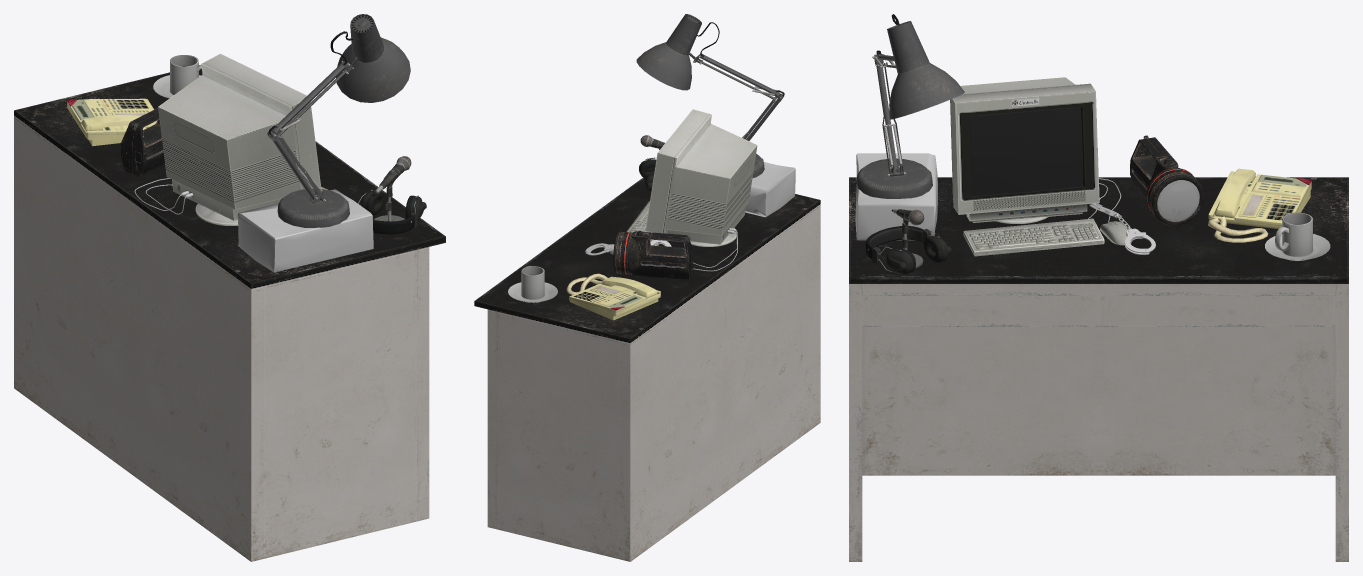
Rendered from Room1.fbx_桌子.fbx.
The picture shows the model from 3 angles, left to right: view 1: azimuth 30°, elevation 25°; view 2: azimuth 150°, elevation 25°; view 3: azimuth 270°, elevation 25°; orthographic projection. The views are drawn at different scales.
Visible parts, largest first — view 1: sm30_272_drugshelf01b_00ms.002, sm74_052_labopc01c_00ms.001, sm35_032_desklamp01a_00ms.002, sm36_098_cardboard08a_00ms.004, sm31_033_ninetiestelephone01a_00ms.004, sm31_045_flashlight01a_00ms, sm31_035_headphone01a_00ms, sm24_015_cup01a_00ms, sm31_008_microphonestand01a_00ms; view 2: sm30_272_drugshelf01b_00ms.002, sm74_052_labopc01c_00ms.001, sm35_032_desklamp01a_00ms.002, sm31_045_flashlight01a_00ms, sm31_033_ninetiestelephone01a_00ms.004, sm36_098_cardboard08a_00ms.004, sm24_015_cup01a_00ms; view 3: sm30_272_drugshelf01b_00ms.002, sm74_052_labopc01c_00ms.001, LODGroup_1_MainMesh_1_SubMesh_3.008, sm35_032_desklamp01a_00ms.002, LODGroup_1_MainMesh_2_SubMesh_1.029, sm31_033_ninetiestelephone01a_00ms.004, sm36_098_cardboard08a_00ms.004, sm31_045_flashlight01a_00ms, sm31_035_headphone01a_00ms, sm24_015_cup01a_00ms, LODGroup_1_MainMesh_1_SubMesh_1.002, sm32_062_handcuffs01a_00ms (+1 smaller).
Boxes of the visible parts, box(x1,y1,x2,y2) form: sm30_272_drugshelf01b_00ms.002: box(14, 69, 445, 561); sm74_052_labopc01c_00ms.001: box(158, 53, 328, 225); sm35_032_desklamp01a_00ms.002: box(267, 14, 410, 227); sm36_098_cardboard08a_00ms.004: box(237, 189, 373, 272); sm31_033_ninetiestelephone01a_00ms.004: box(67, 98, 156, 146); sm31_045_flashlight01a_00ms: box(120, 108, 164, 176); sm31_035_headphone01a_00ms: box(358, 188, 426, 234); sm24_015_cup01a_00ms: box(153, 55, 201, 98); sm31_008_microphonestand01a_00ms: box(372, 156, 411, 221); sm30_272_drugshelf01b_00ms.002: box(474, 177, 820, 561); sm74_052_labopc01c_00ms.001: box(609, 109, 757, 254); sm35_032_desklamp01a_00ms.002: box(636, 14, 784, 177); sm31_045_flashlight01a_00ms: box(613, 230, 692, 279); sm31_033_ninetiestelephone01a_00ms.004: box(566, 273, 660, 320); sm36_098_cardboard08a_00ms.004: box(745, 162, 795, 217); sm24_015_cup01a_00ms: box(508, 266, 557, 302); sm30_272_drugshelf01b_00ms.002: box(849, 177, 1348, 561); sm74_052_labopc01c_00ms.001: box(950, 77, 1132, 256); LODGroup_1_MainMesh_1_SubMesh_3.008: box(970, 107, 1083, 195); sm35_032_desklamp01a_00ms.002: box(856, 14, 964, 198); LODGroup_1_MainMesh_2_SubMesh_1.029: box(1099, 296, 1335, 326); sm31_033_ninetiestelephone01a_00ms.004: box(1208, 168, 1311, 242); sm36_098_cardboard08a_00ms.004: box(855, 153, 937, 240); sm31_045_flashlight01a_00ms: box(1130, 135, 1204, 225); sm31_035_headphone01a_00ms: box(865, 226, 951, 275); sm24_015_cup01a_00ms: box(1265, 212, 1330, 260); LODGroup_1_MainMesh_1_SubMesh_1.002: box(1157, 180, 1199, 221); sm32_062_handcuffs01a_00ms: box(1089, 203, 1155, 254).
Size of the model in its own units: 69.93 by 164 by 143.
